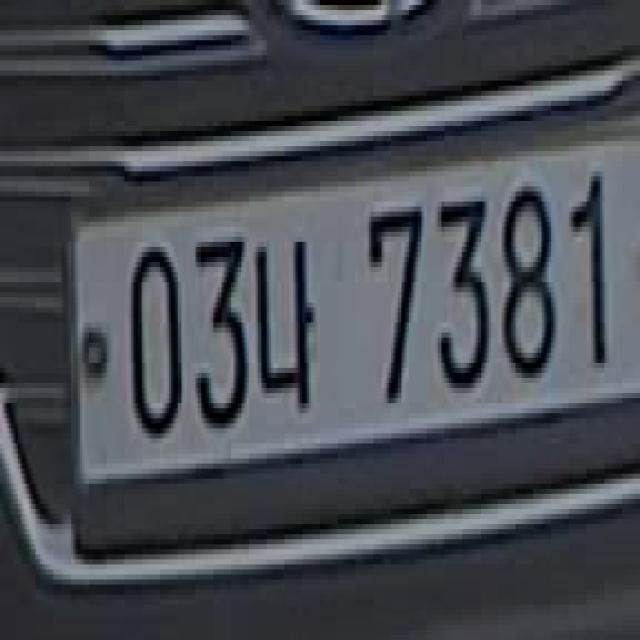illegal_plate: (64, 110, 636, 514)
